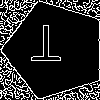T: (30, 25, 62, 71)
